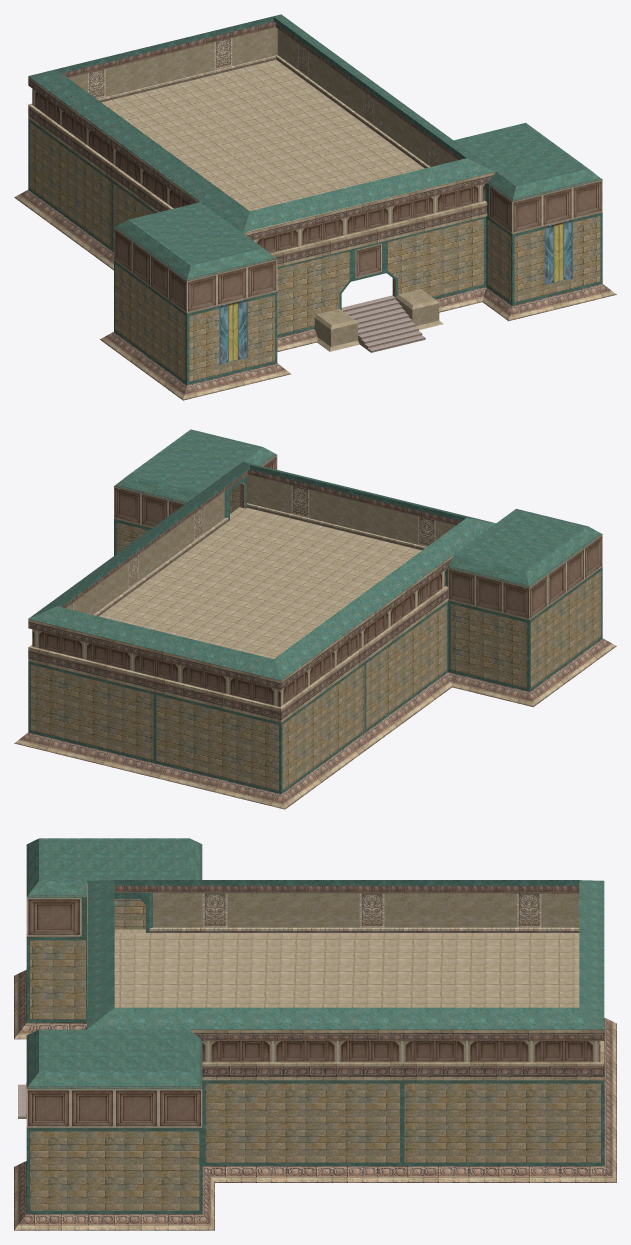
File: thm_nboo_assoc_hall_civ_s01_r0_exterior_mesh_exterior_l1.fbx
3 renders of one model, top to bottom at view 1: azimuth 30°, elevation 25°; view 2: azimuth 150°, elevation 25°; view 3: azimuth 270°, elevation 25°, orthographic. The views are drawn at different scales.
Parts seen in each view (by area): view 1: mesh_node; view 2: mesh_node; view 3: mesh_node.
Boxes of the visible parts, left/top/right/bottom form: mesh_node: left=14, top=14, right=616, bottom=400; mesh_node: left=14, top=429, right=616, bottom=809; mesh_node: left=14, top=838, right=616, bottom=1230.
Size of the model in its own units: 48 by 14 by 48.
